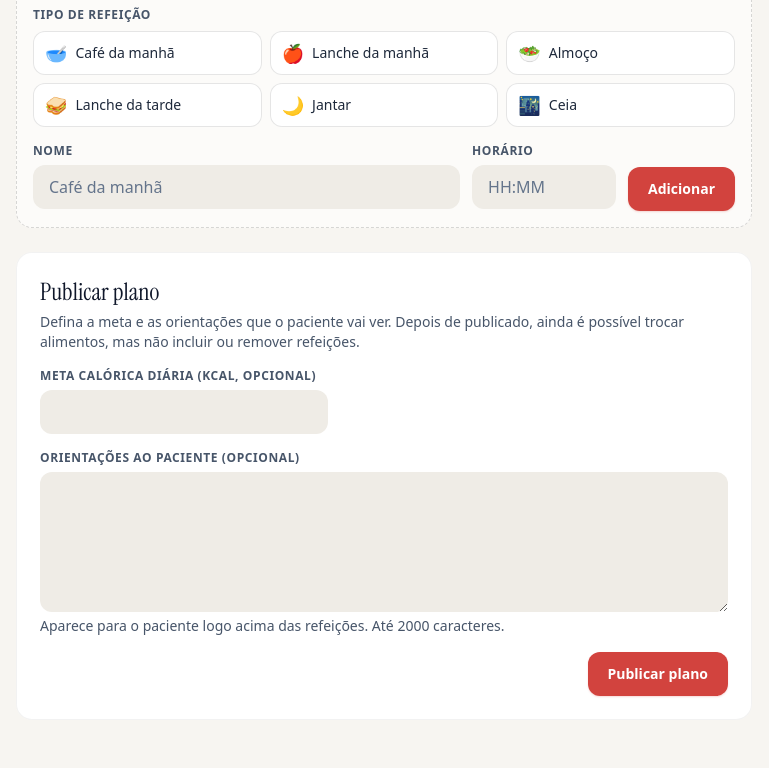
it: ConstrutorDePlano — rascunho (RF-04) › mostra o E-08 quando o plano ainda não tem alimentos
(page scrolled)
Click the button "Publicar plano": (658, 674) [588, 652, 728, 696]
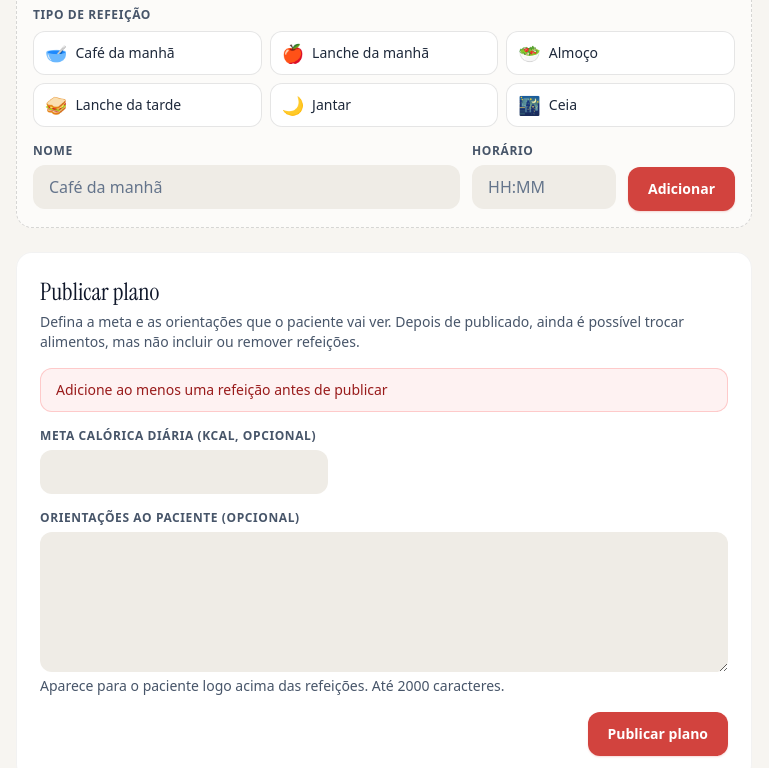
Expected: the text "Adicione ao menos uma refeição antes de publicar" is shown, [40, 368, 728, 412]
